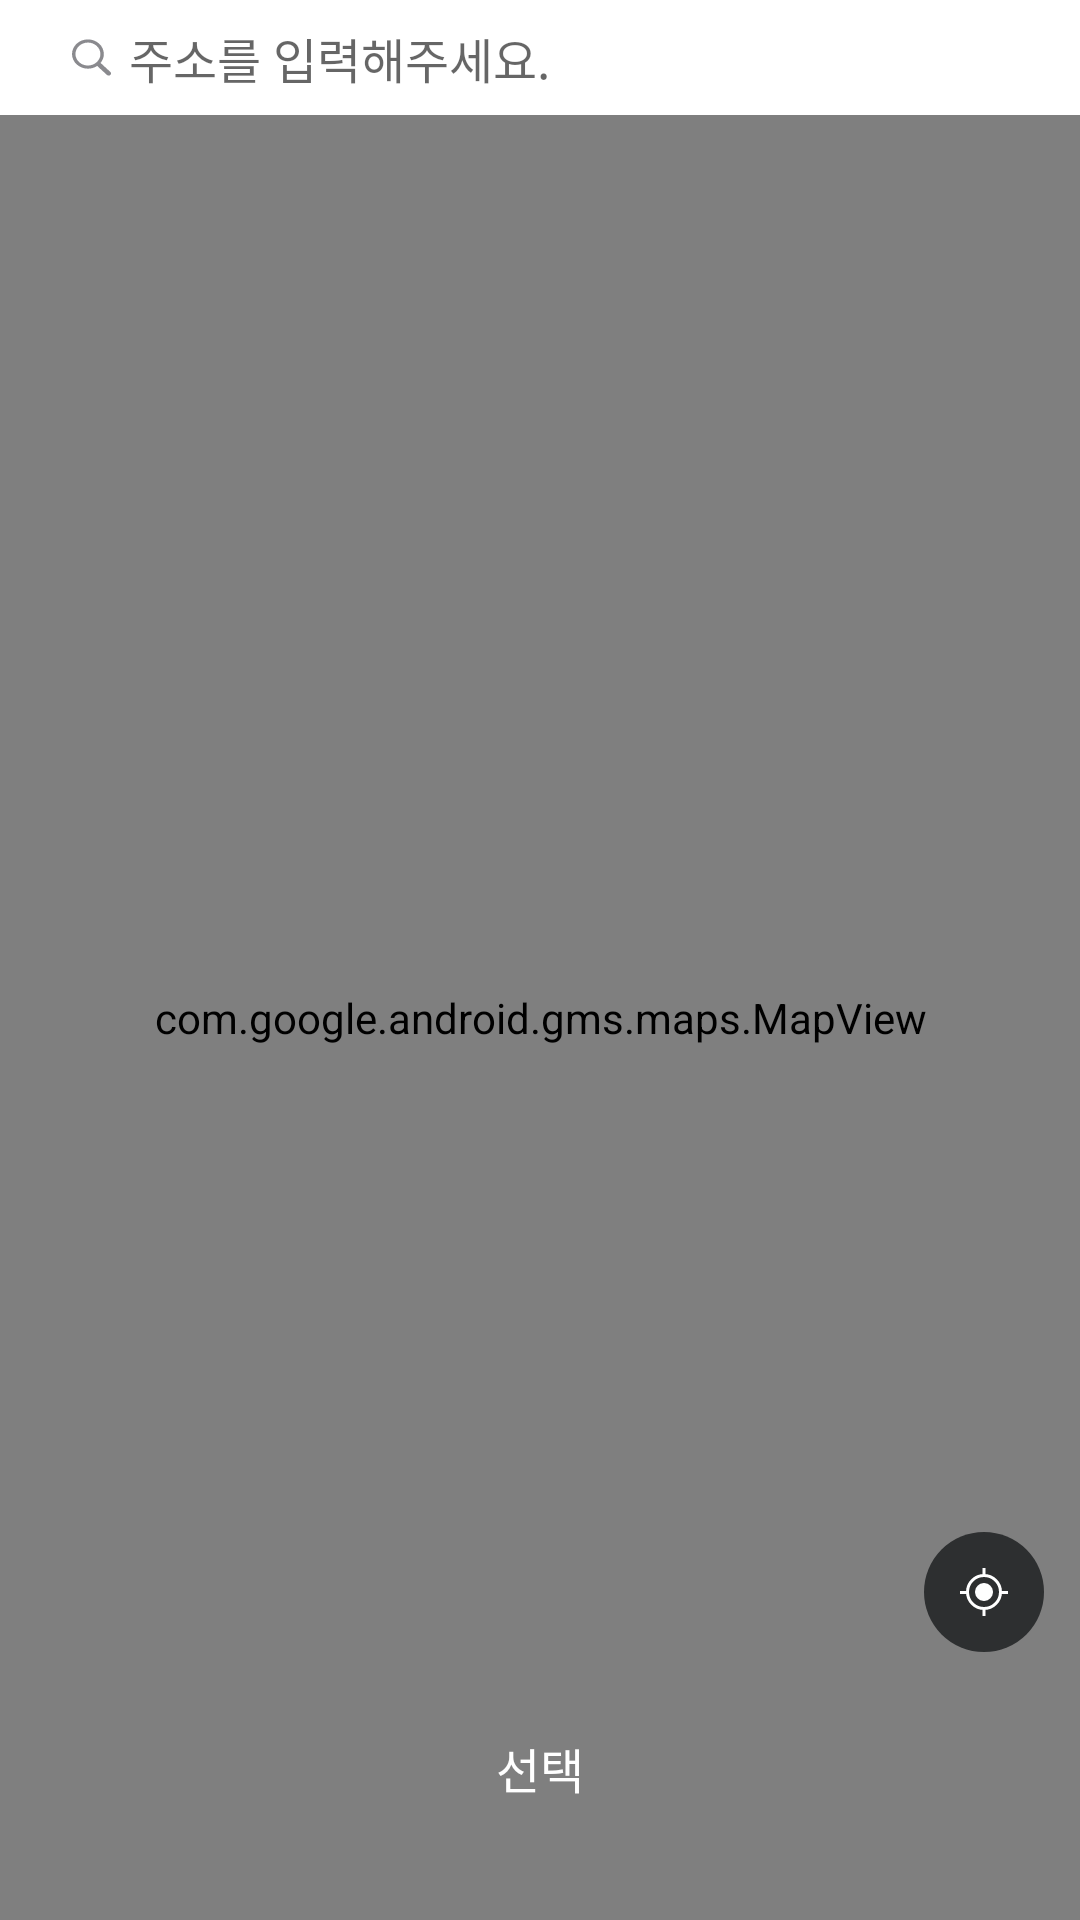

Icons on this 1080*1920 Android screen, each with its box as [x1=x1, y1=y1, x2=x2, y2=y2]:
search: [x1=72, y1=39, x2=111, y2=76]
